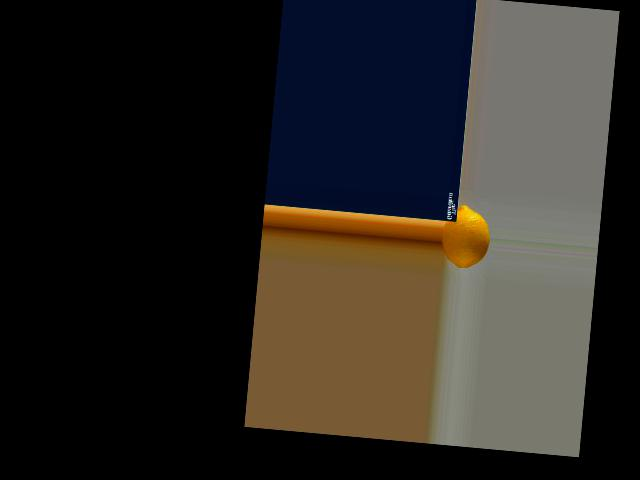lemon: (438, 194, 493, 279)
